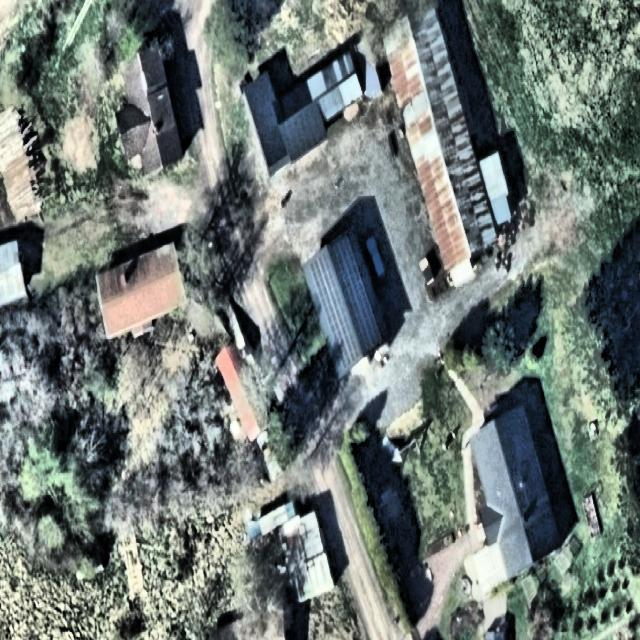roof_pv: (330, 305, 358, 378), (336, 235, 361, 308), (312, 248, 336, 322), (354, 295, 381, 356)
